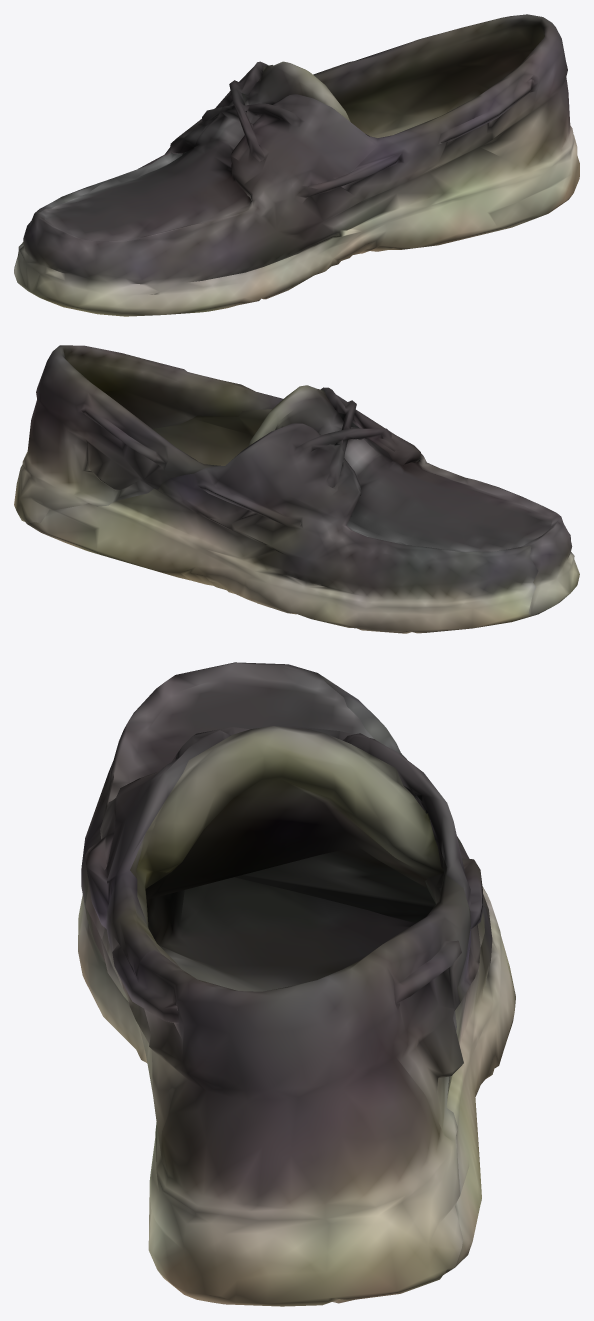
Rendered from Mens_Authentic_Original_Boat_Shoe_in_Navy_Leather_RpT4GvUXRRP-medium.glb.
The picture shows the model from 3 angles, top to bottom: view 1: azimuth 30°, elevation 25°; view 2: azimuth 150°, elevation 25°; view 3: azimuth 270°, elevation 25°; orthographic projection. The views are drawn at different scales.
Visible parts, largest first — view 1: Mens_Authentic_Original_Boat_Shoe_in_Navy_Leather_RpT4GvUXRR; view 2: Mens_Authentic_Original_Boat_Shoe_in_Navy_Leather_RpT4GvUXRR; view 3: Mens_Authentic_Original_Boat_Shoe_in_Navy_Leather_RpT4GvUXRR.
Boxes of the visible parts, left/top/right/bottom form: Mens_Authentic_Original_Boat_Shoe_in_Navy_Leather_RpT4GvUXRR: left=14, top=14, right=579, bottom=316; Mens_Authentic_Original_Boat_Shoe_in_Navy_Leather_RpT4GvUXRR: left=14, top=345, right=579, bottom=633; Mens_Authentic_Original_Boat_Shoe_in_Navy_Leather_RpT4GvUXRR: left=78, top=662, right=515, bottom=1306.
Bounding box in the file's own units: 0.2496 × 0.0809 × 0.0897.
Materials: 1 (1 with a texture image).
